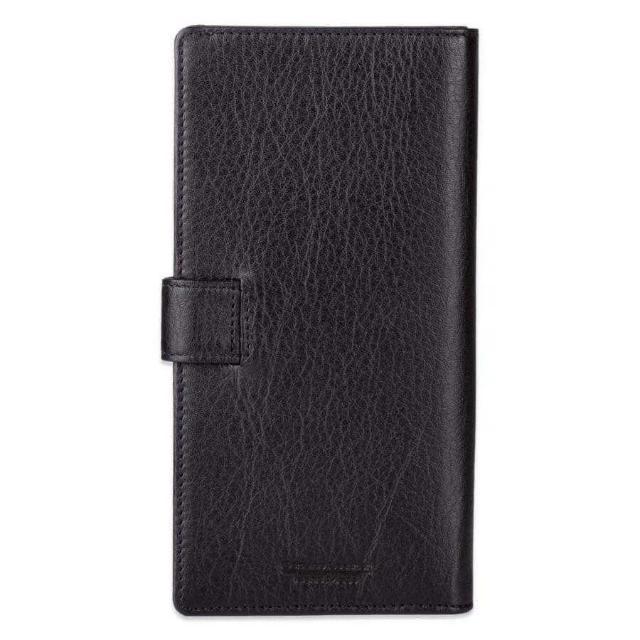wallet: (161, 16, 483, 624)
